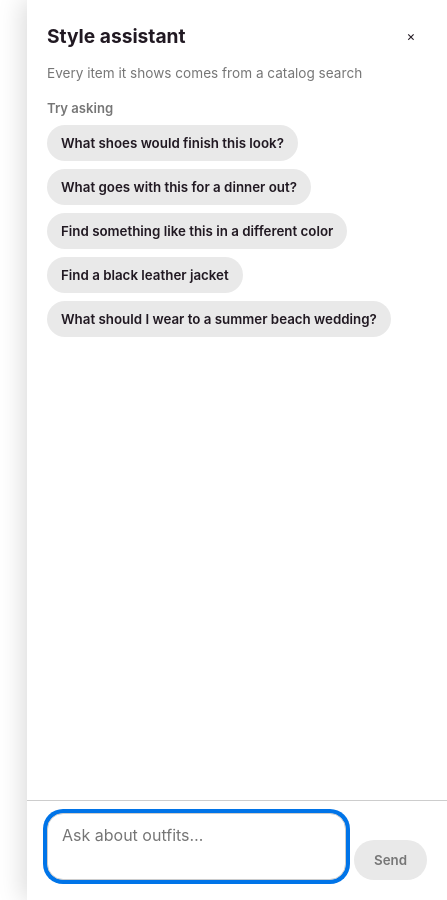
AssistantPanel › ends the pending message if the connection closes without a final answer
The image size is (447, 900).
Click the button "What shoes would finish this look?" at {"x": 172, "y": 143}, box left=47, top=125, right=298, bottom=161
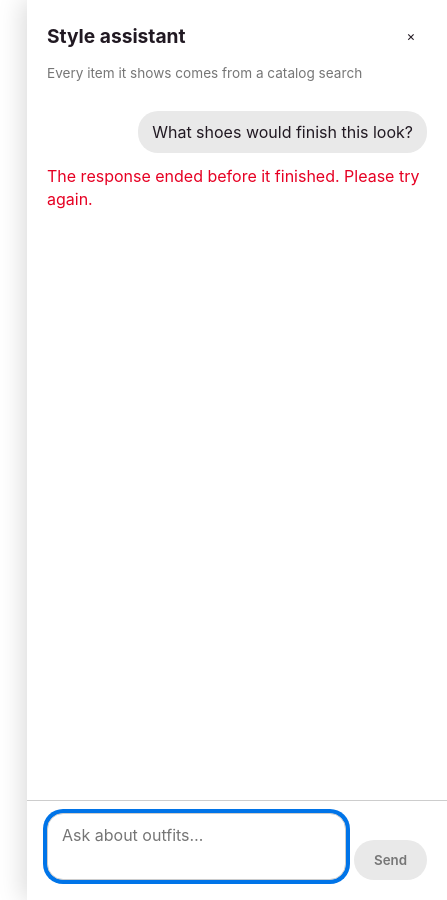
Expected: the text "The response ended before it finished. Please try again." is shown, left=47, top=165, right=427, bottom=210
